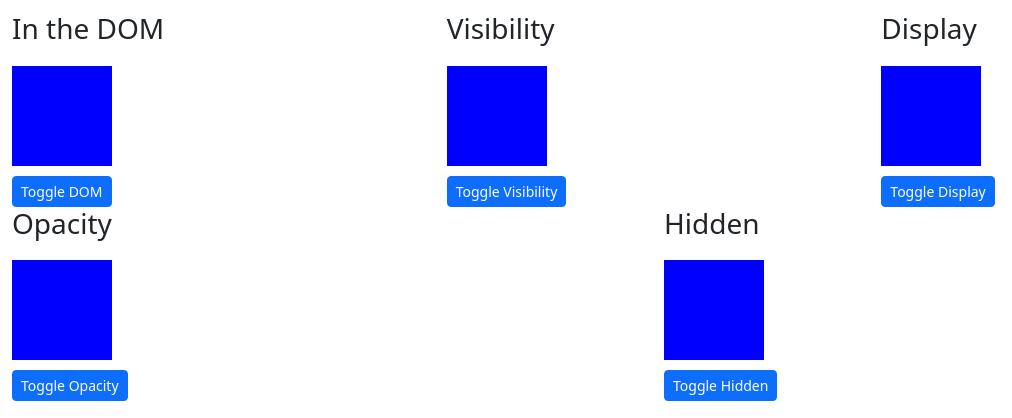
Test: Visibility tests › Toggle DOM absence
The width and height of the screenshot is (1012, 418).
Expected: the element with test id "DOM" is shown, left=12, top=66, right=112, bottom=166
Click the button "Toggle DOM". click: coordinates (62, 191)
box: left=12, top=176, right=112, bottom=207
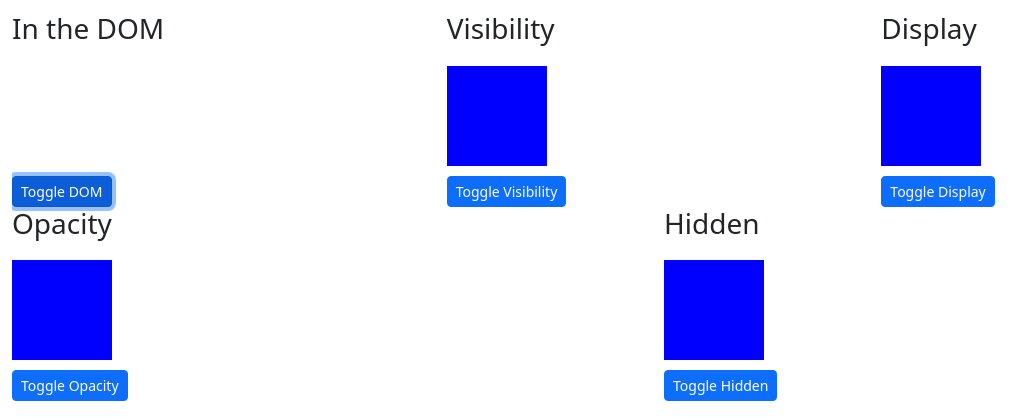
Now the element with test id "DOM" is gone
